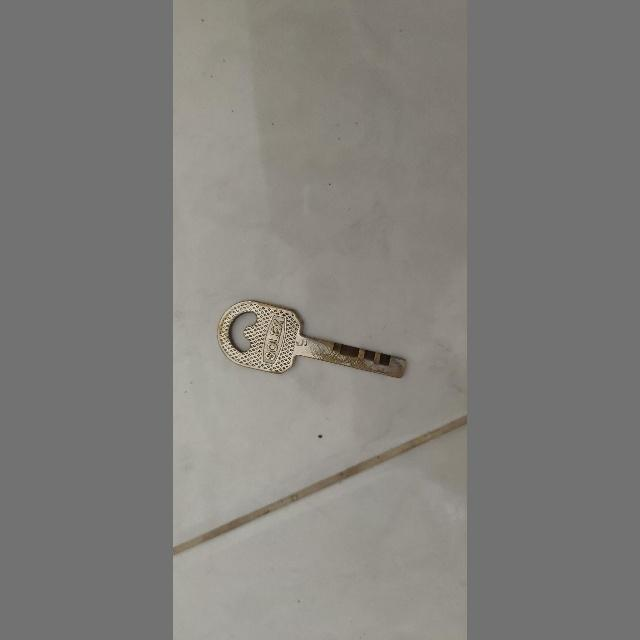Keys: (214, 298, 410, 400)
